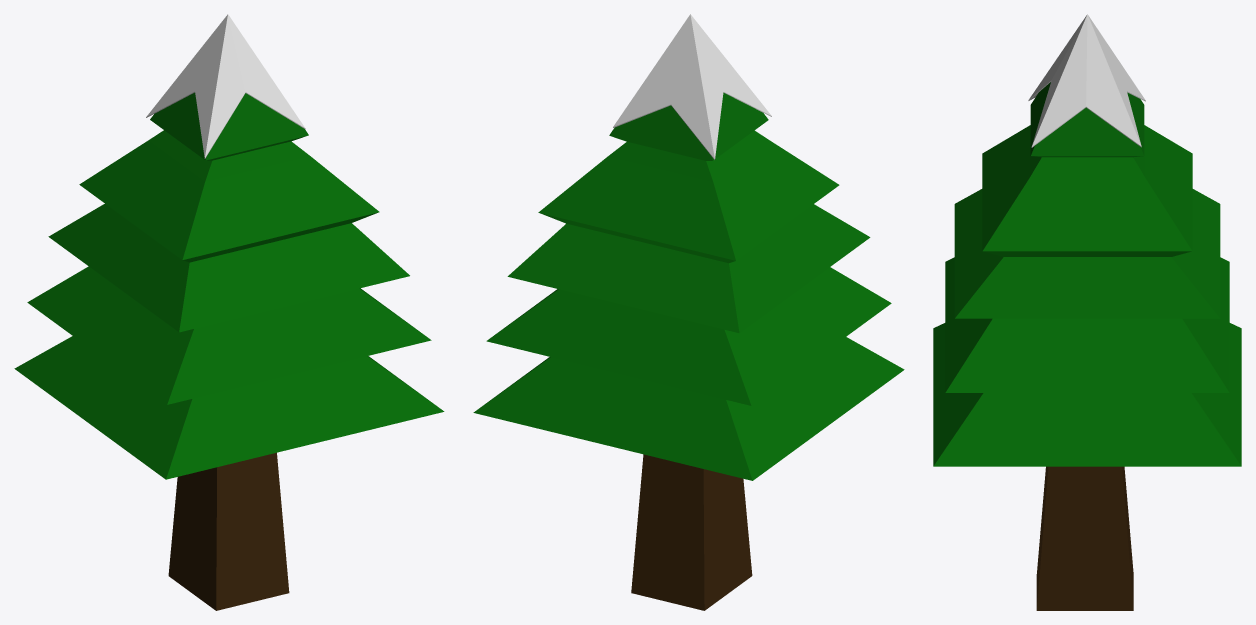
Rendered from Pine Tree Low Poly.fbx.
3 views of the same model, side by side, from view 1: azimuth 30°, elevation 25°; view 2: azimuth 150°, elevation 25°; view 3: azimuth 270°, elevation 25° (orthographic).
Visible parts, largest first — view 1: TreeTop, TreeTrunk, SnowCap; view 2: TreeTop, TreeTrunk, SnowCap; view 3: TreeTop, TreeTrunk, SnowCap.
Part boxes in pixels (x1,y1,x2,y2): TreeTop: [14, 92, 444, 479]; TreeTrunk: [168, 452, 289, 610]; SnowCap: [146, 14, 305, 158]; TreeTop: [473, 92, 904, 480]; TreeTrunk: [631, 454, 752, 610]; SnowCap: [613, 14, 771, 159]; TreeTop: [933, 82, 1241, 466]; TreeTrunk: [1036, 466, 1133, 610]; SnowCap: [1028, 14, 1145, 147].
Bounding box in the file's own units: 90.1 × 176 × 84.91.
